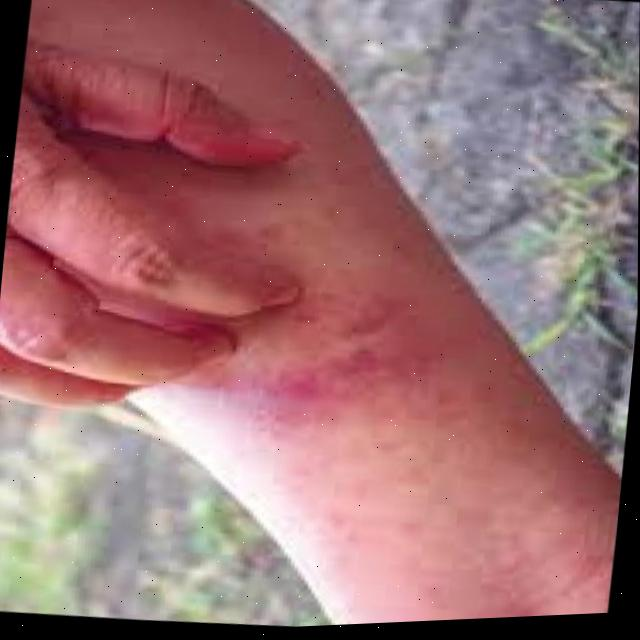Eczema: (132, 185, 468, 473)
